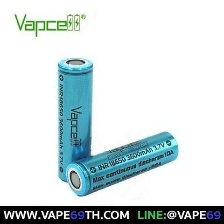battery: (63, 127, 182, 198), (54, 54, 95, 186)
